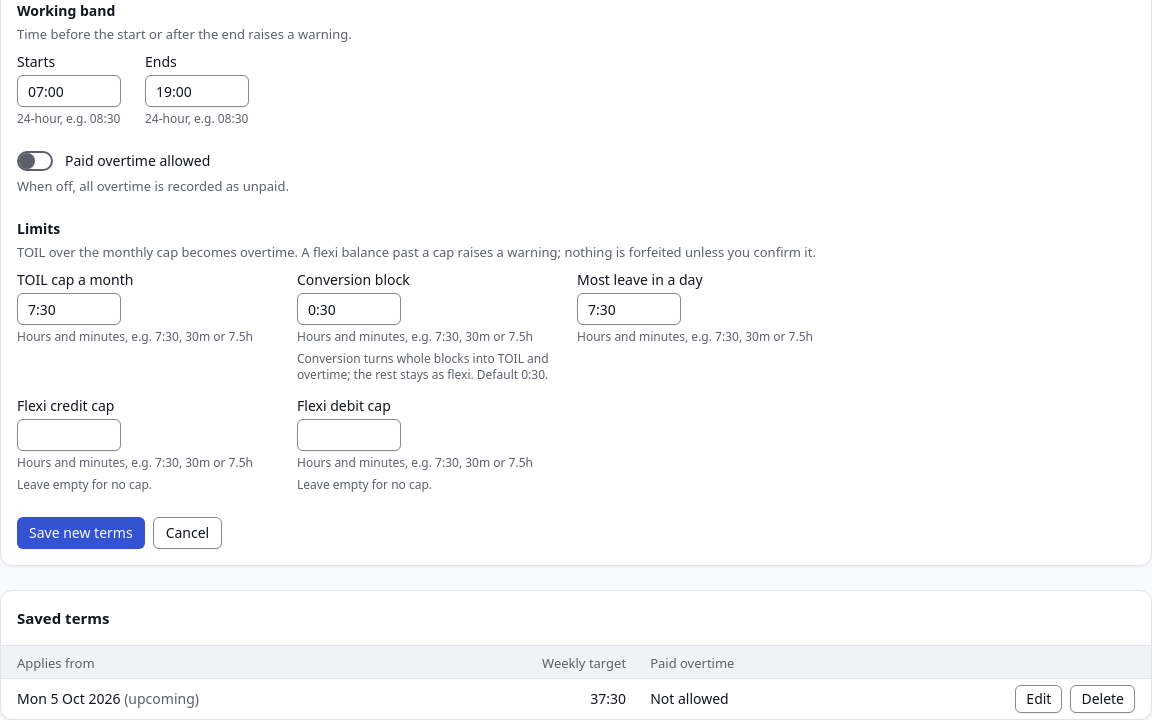
Test: TermsTab › keeps the last terms when the API refuses, and says why
(page scrolled)
Click the button named "Delete terms from Mon 5 Oct 2026" at (1103, 698), box [1070,684,1135,712]
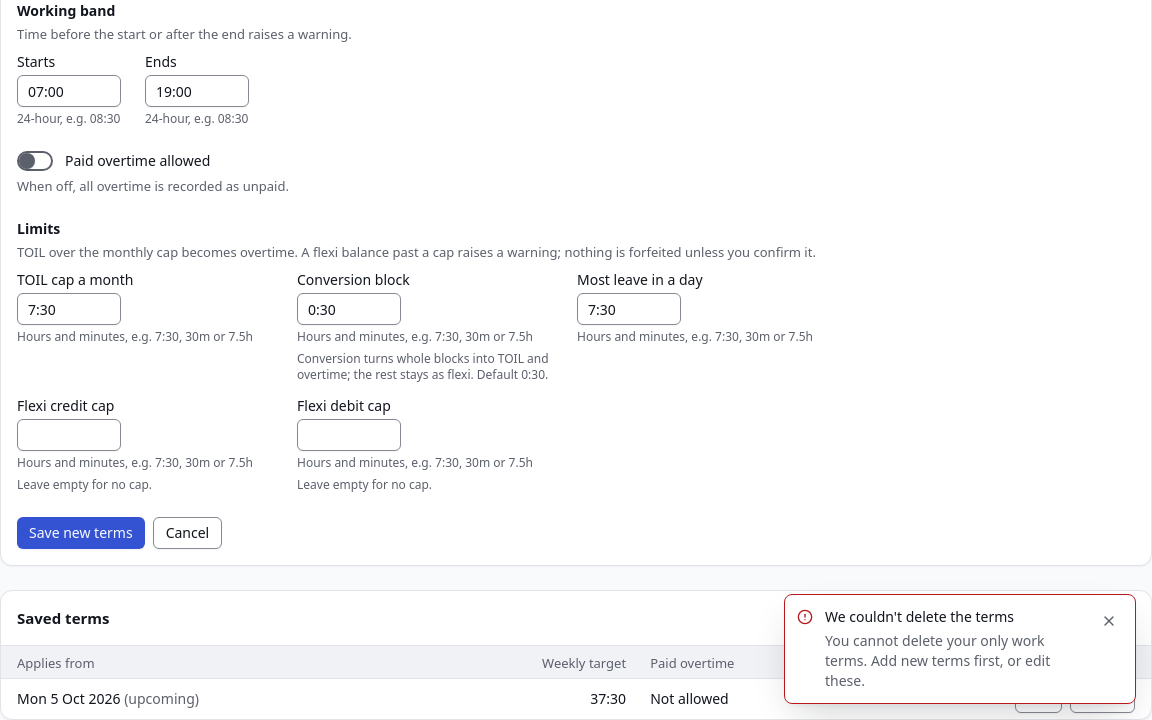
Check: the text "We couldn't delete the terms" is shown, box [825,607,1014,626]
Check: the text "You cannot delete your only work terms" is shown, box [825,631,1050,690]
